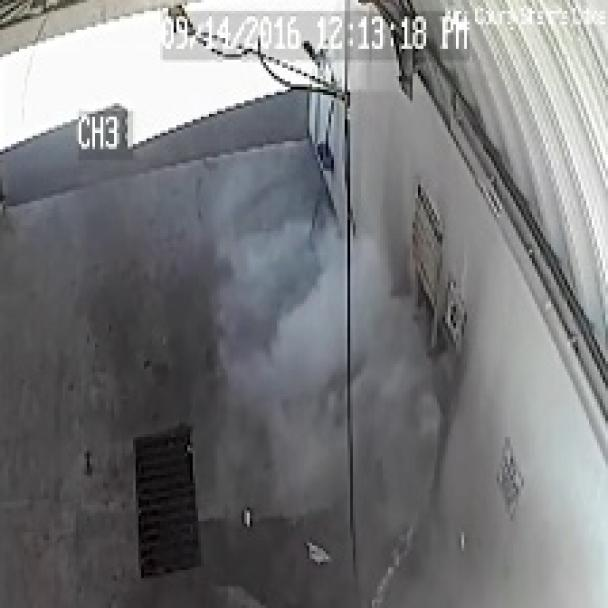smoke: (175, 161, 478, 600)
